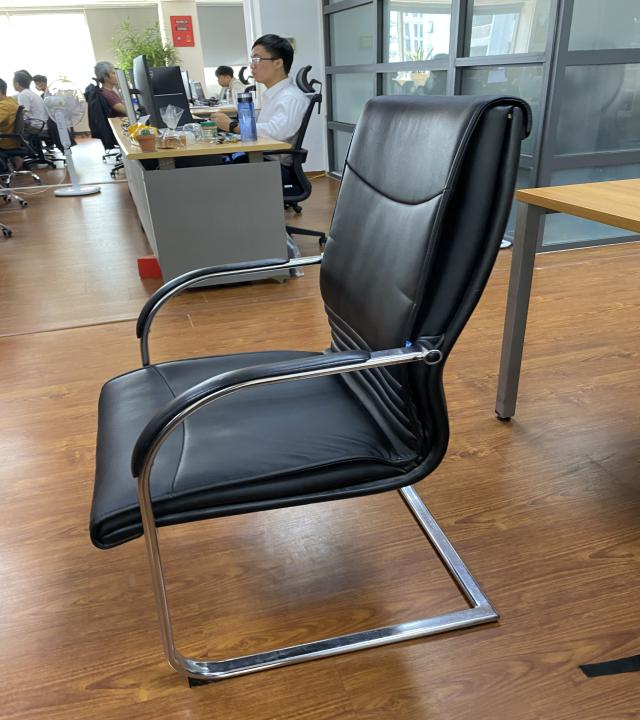SS_03: (85, 90, 535, 686)
